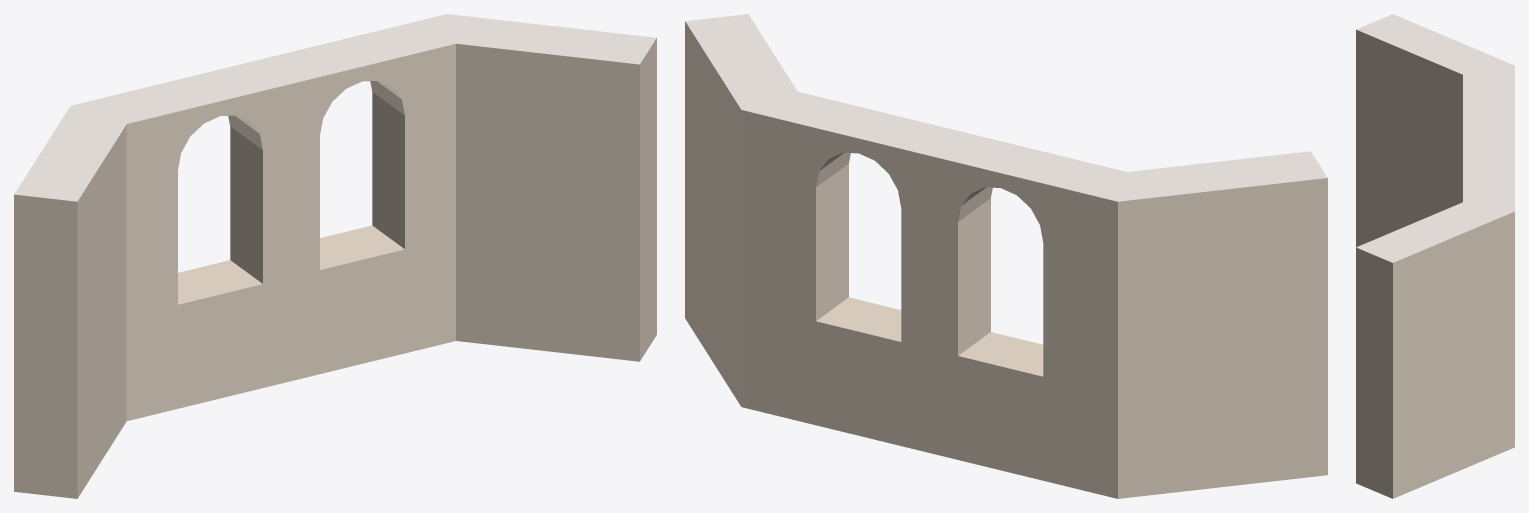
3 views of the same model, side by side, from view 1: azimuth 30°, elevation 25°; view 2: azimuth 150°, elevation 25°; view 3: azimuth 270°, elevation 25° (orthographic). The views are drawn at different scales.
Visible parts, largest first — view 1: object1.007; view 2: object1.007; view 3: object1.007.
Part boxes in pixels (bbox=[...]): object1.007: bbox=[14, 14, 656, 498]; object1.007: bbox=[685, 14, 1327, 498]; object1.007: bbox=[1356, 14, 1514, 498].
Bounding box in the file's own units: 2.26 × 1 × 0.6101.
